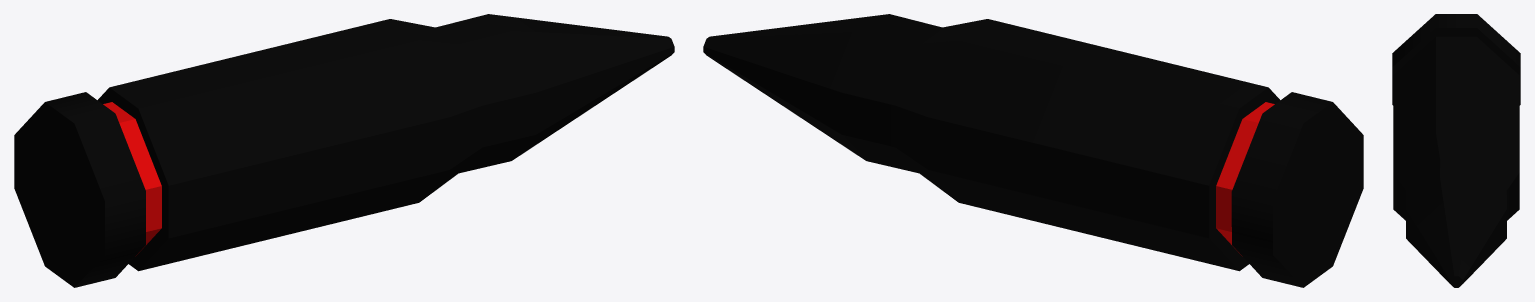
The model's file is AK Bullet.fbx.
3 renders of one model, left to right at view 1: azimuth 30°, elevation 25°; view 2: azimuth 150°, elevation 25°; view 3: azimuth 270°, elevation 25°, orthographic. The views are drawn at different scales.
Visible parts, largest first — view 1: Bullet; view 2: Bullet; view 3: Bullet.
Boxes of the visible parts, x1,y1,x2,y2 form: Bullet: (14, 14, 674, 287); Bullet: (703, 14, 1363, 287); Bullet: (1392, 14, 1520, 287).
Size of the model in its own units: 0.0696 by 0.0179 by 0.0179.
